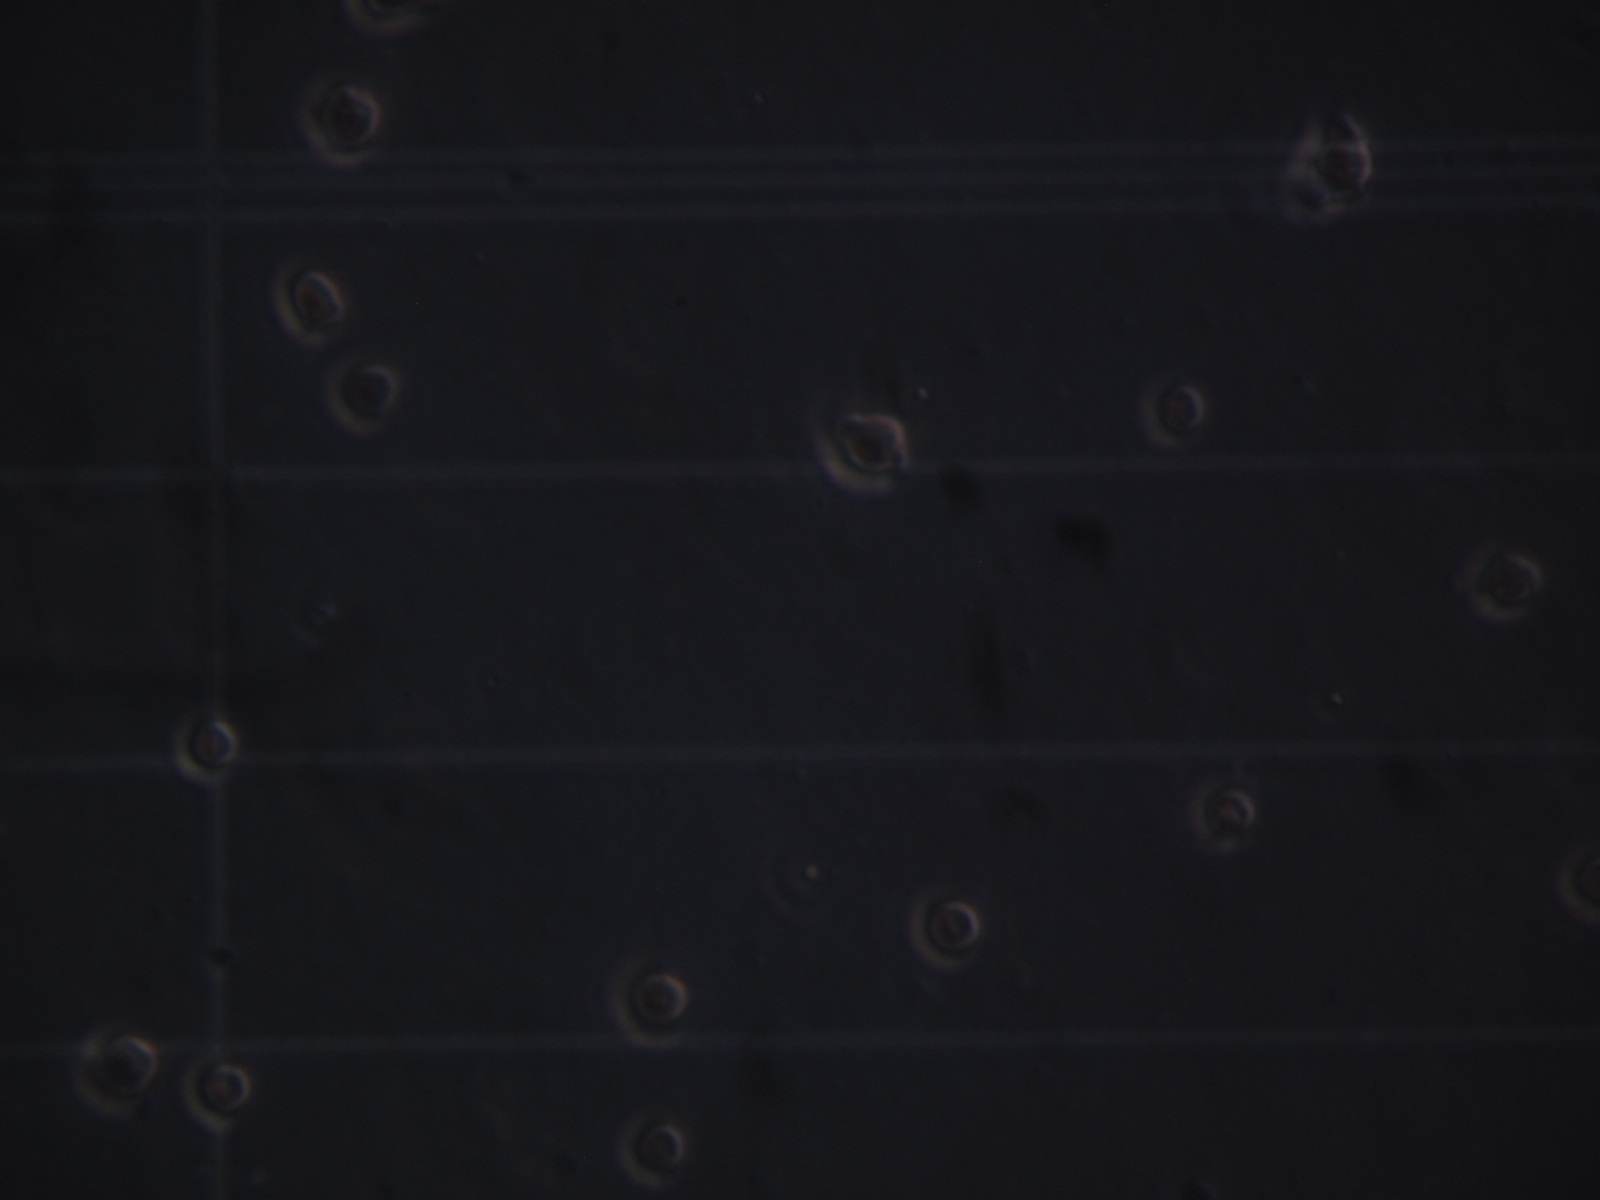hemo: (607, 953, 688, 1055), (819, 405, 910, 492), (77, 1024, 154, 1117), (1459, 543, 1545, 624), (301, 79, 380, 164), (273, 260, 346, 350), (179, 1046, 254, 1132), (910, 885, 983, 971), (176, 708, 244, 789), (620, 1113, 688, 1190), (328, 361, 401, 431), (1291, 140, 1371, 200), (1191, 780, 1257, 848), (1143, 381, 1204, 447), (1275, 168, 1338, 227), (1301, 108, 1369, 146)
